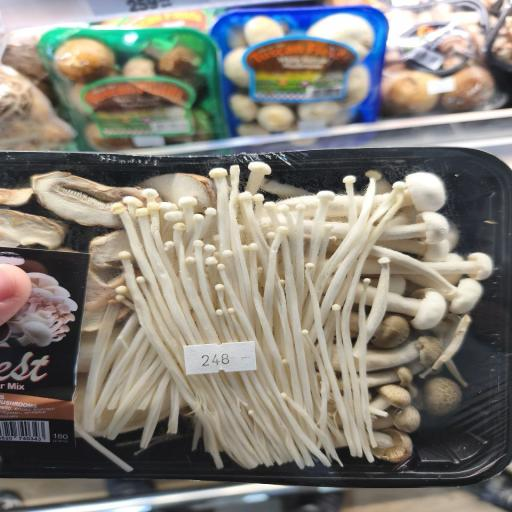Enoki Mushroom: (111, 155, 414, 469)
